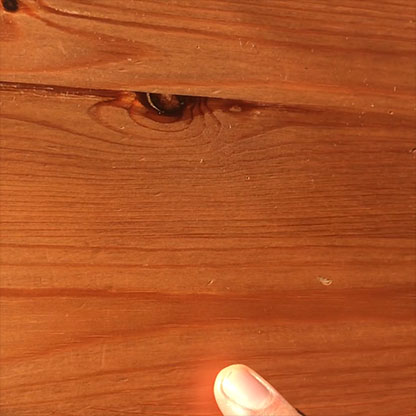fingertip: (198, 353, 283, 414)
